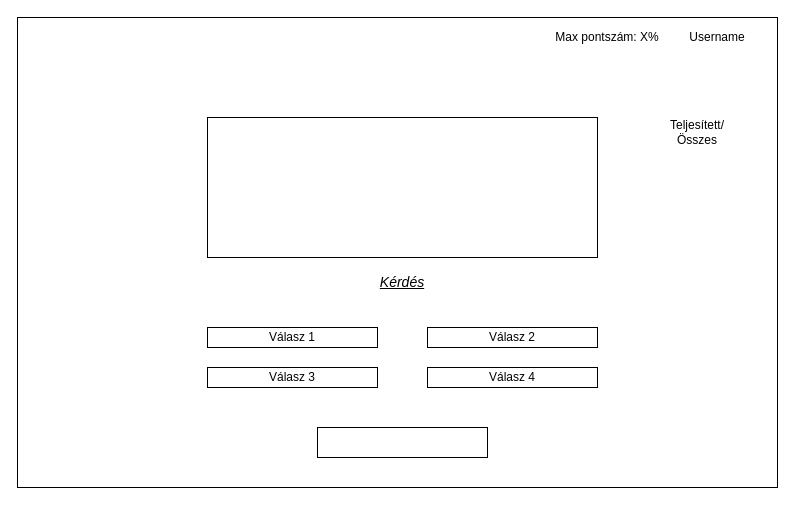
Image size: 795x505. Some labels were removed from this diagram. Here are the shapes that lost their labels. From the top down, the centre of each, then its label:
(x=402, y=187): Kép
(x=402, y=442): Beküldés
